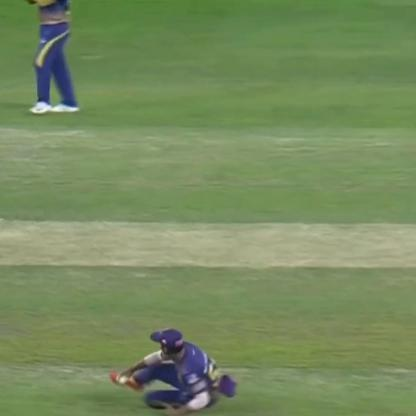ball: (113, 372, 131, 387)
